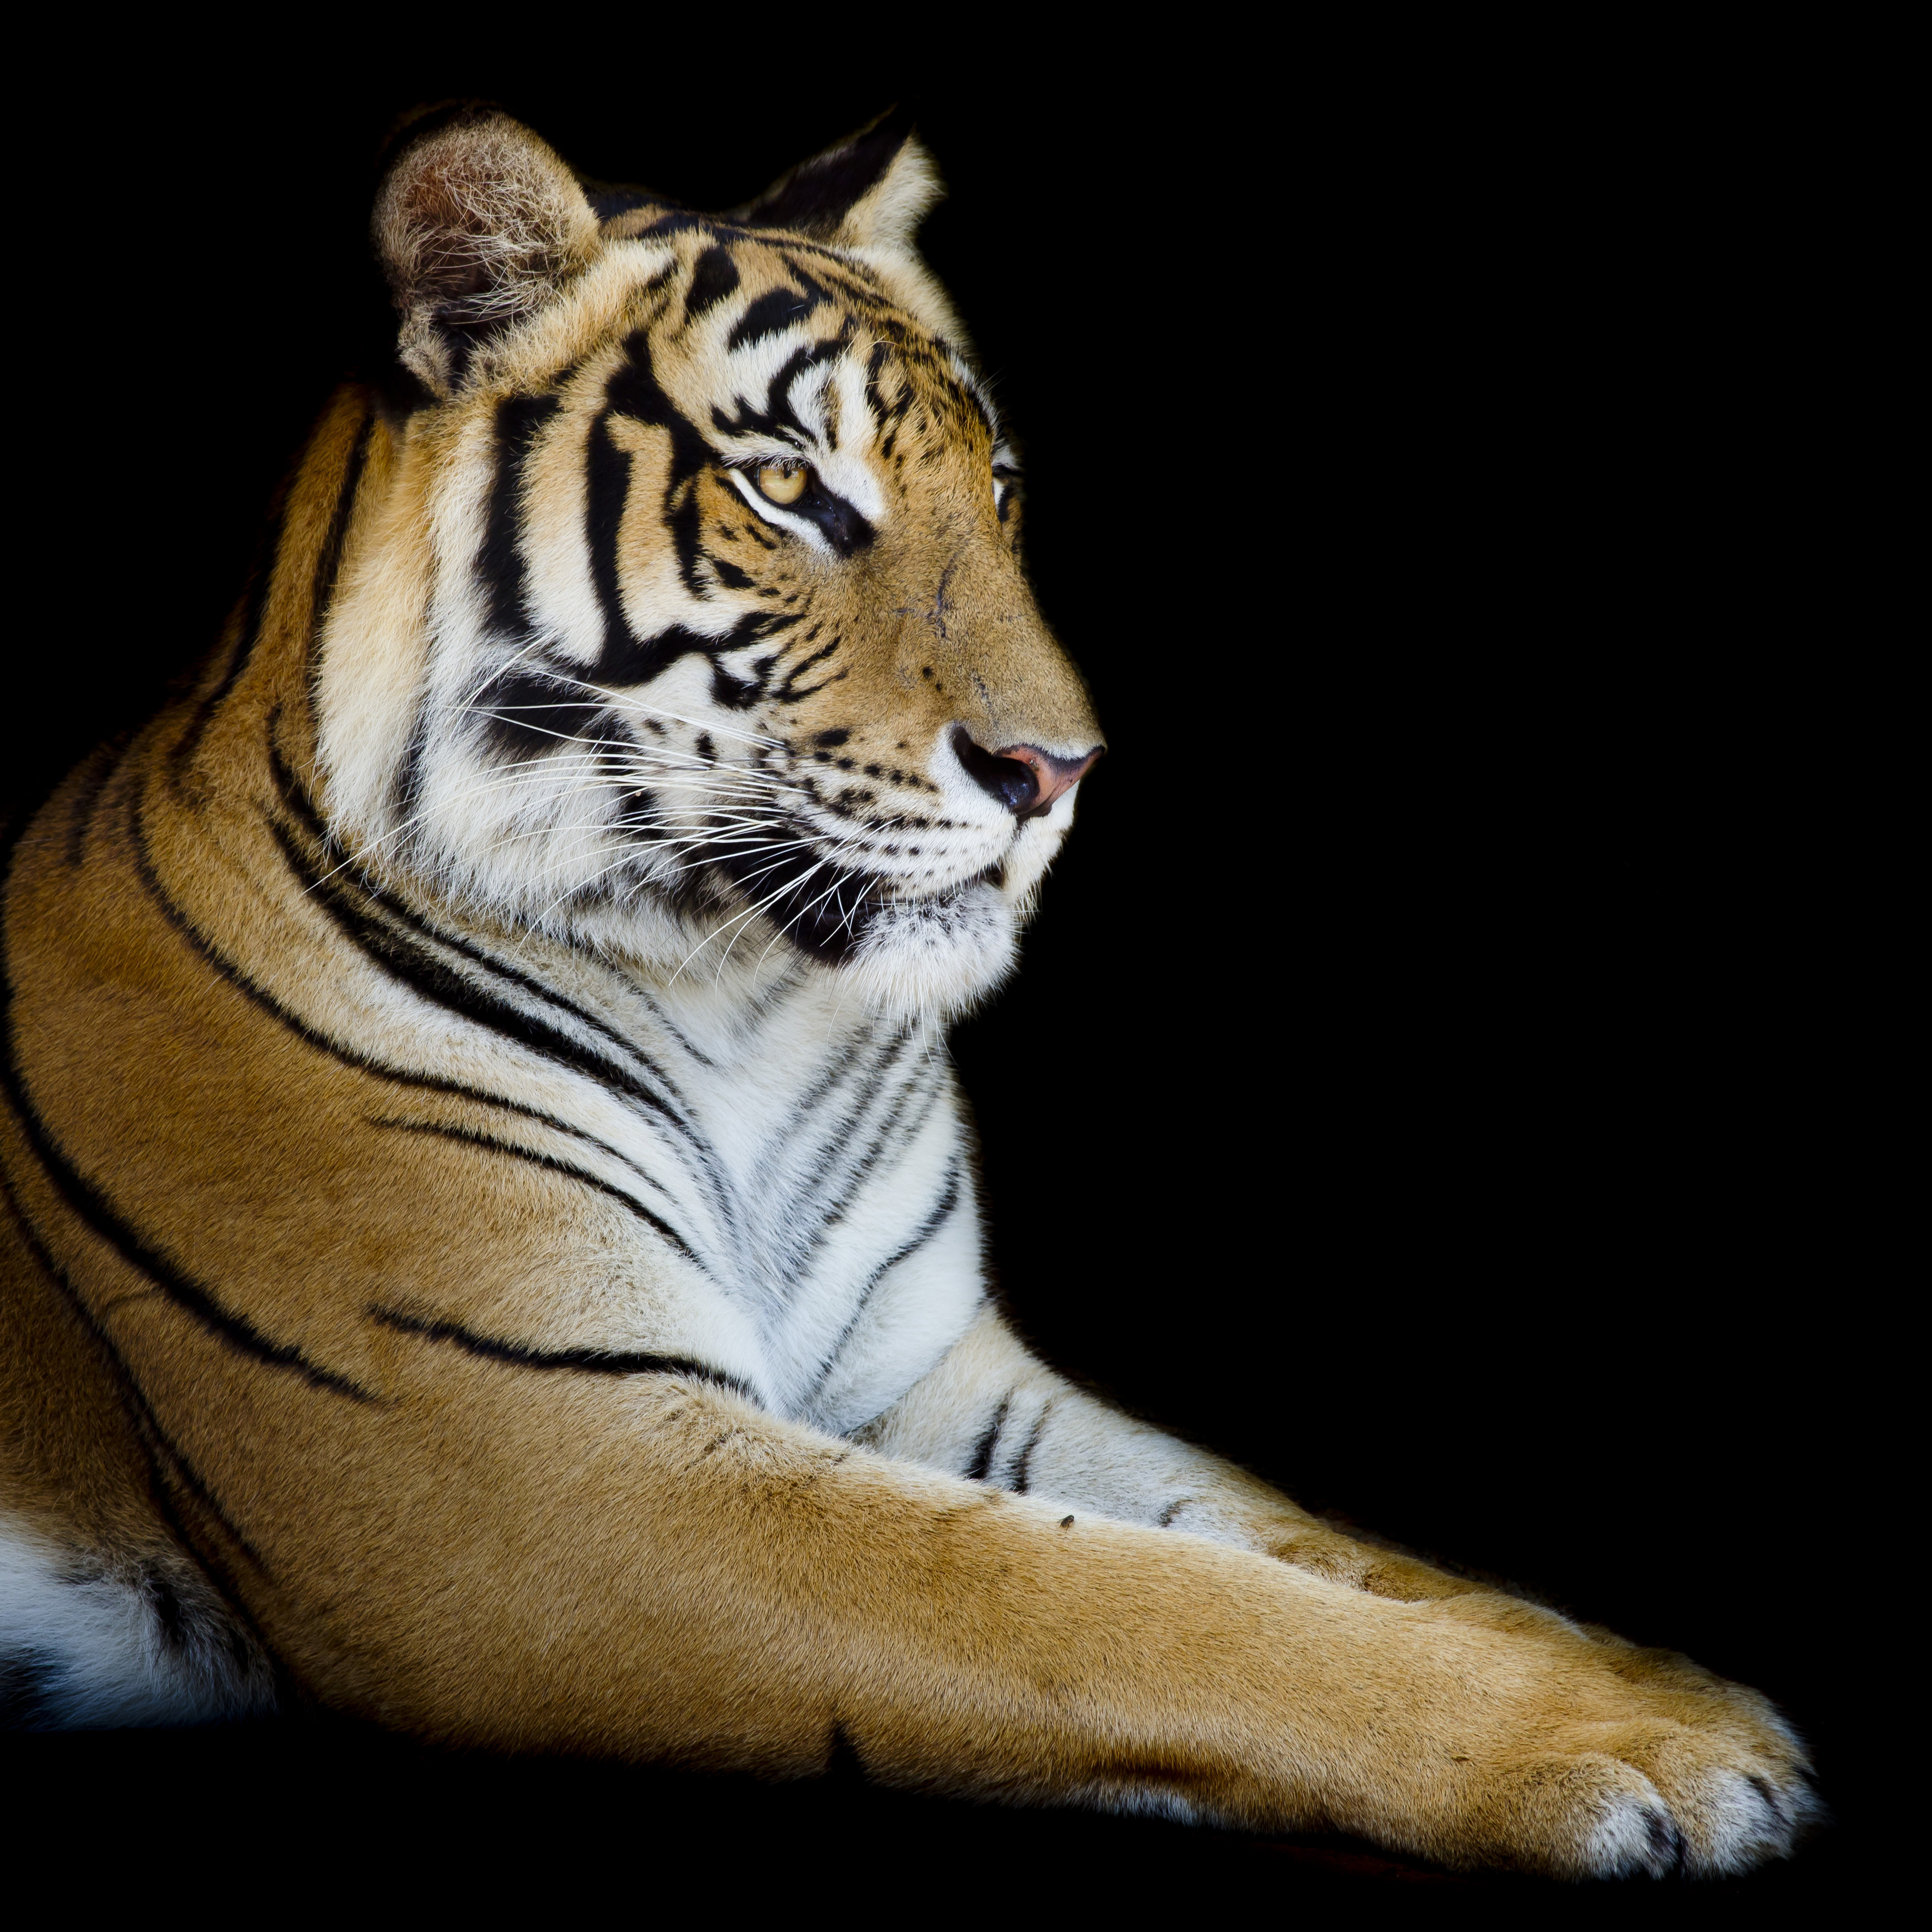tiger: (175, 94, 1185, 1782)
